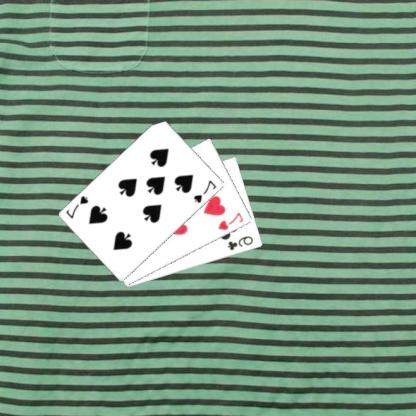7H: (217, 209, 247, 232)
7S: (193, 177, 220, 204), (65, 193, 92, 220)
9C: (226, 233, 257, 252)
